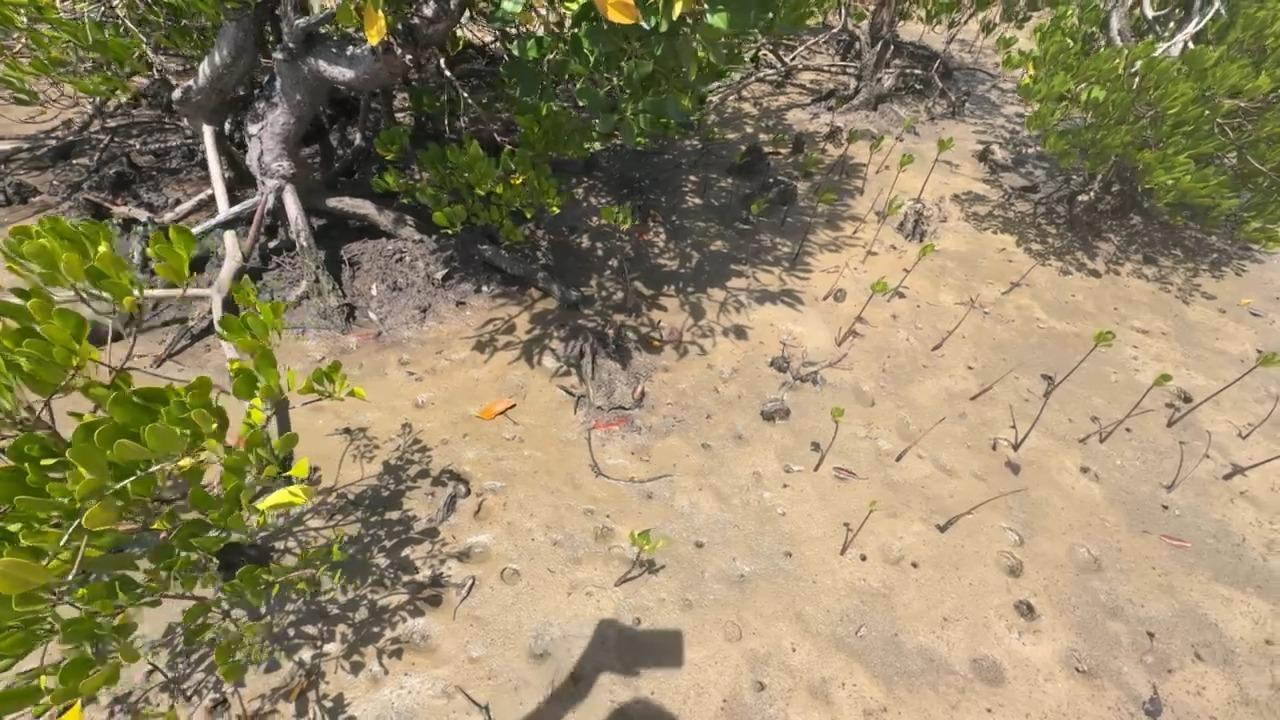Tree: (1163, 350, 1280, 428), (990, 372, 1057, 475), (1089, 372, 1172, 444), (1041, 329, 1116, 396), (813, 127, 879, 193), (935, 488, 1028, 534), (599, 200, 635, 309), (792, 185, 841, 261), (879, 243, 940, 301), (1158, 429, 1213, 493), (858, 194, 908, 263), (613, 527, 669, 586), (780, 151, 823, 226), (931, 292, 981, 352), (874, 115, 923, 173), (915, 135, 955, 202), (840, 498, 886, 556), (1079, 409, 1156, 443), (893, 417, 946, 464), (1226, 394, 1280, 440), (809, 405, 846, 471), (879, 151, 915, 212), (755, 132, 786, 197), (857, 132, 886, 196), (743, 197, 768, 264), (855, 275, 888, 320), (1221, 455, 1280, 480), (698, 125, 715, 195), (727, 149, 746, 209), (840, 126, 859, 177)
